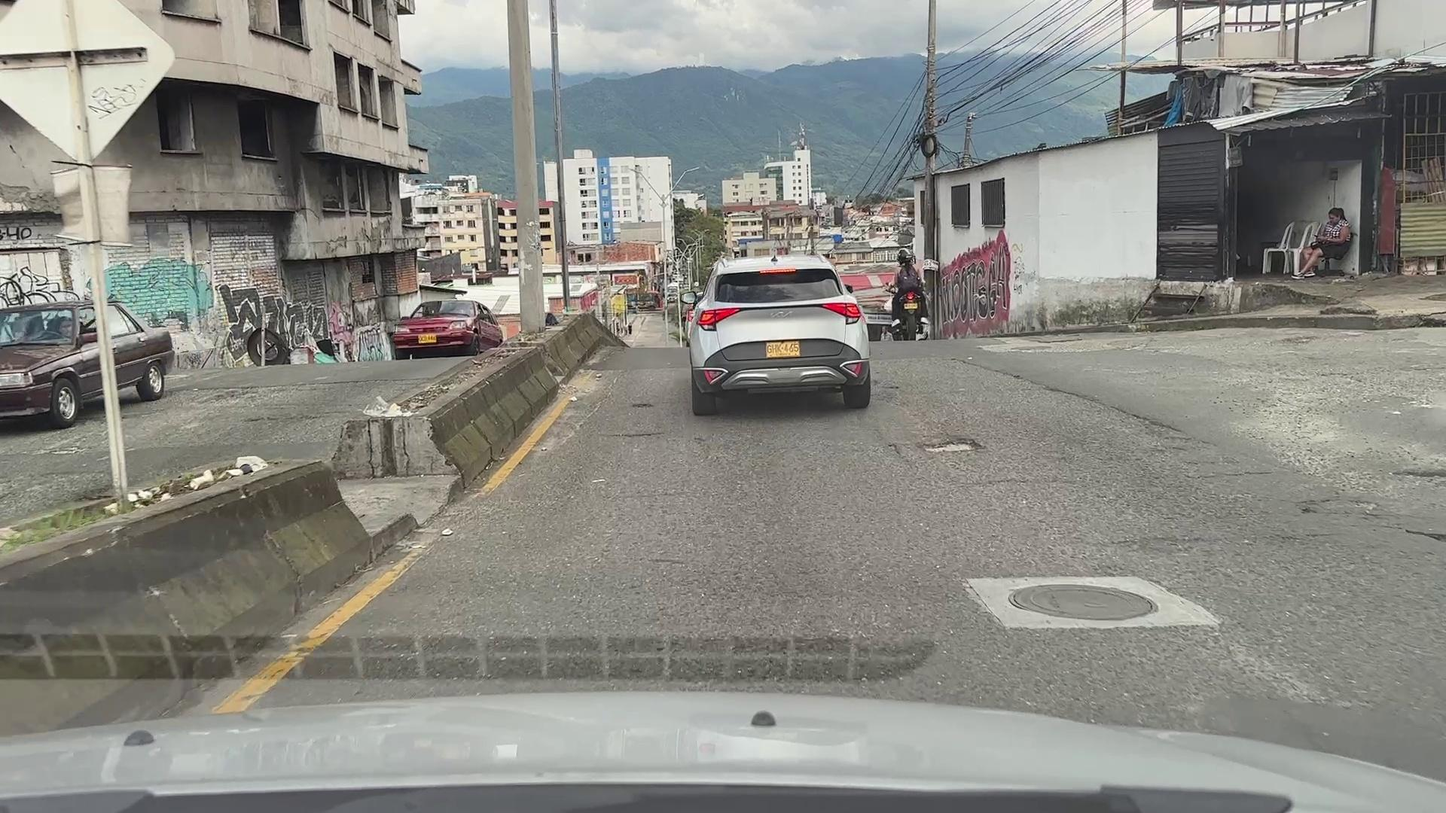bache: (1406, 529, 1445, 545), (926, 441, 978, 452), (632, 403, 652, 407)
grieta: (1041, 383, 1181, 432)
registro: (1009, 584, 1156, 621)
